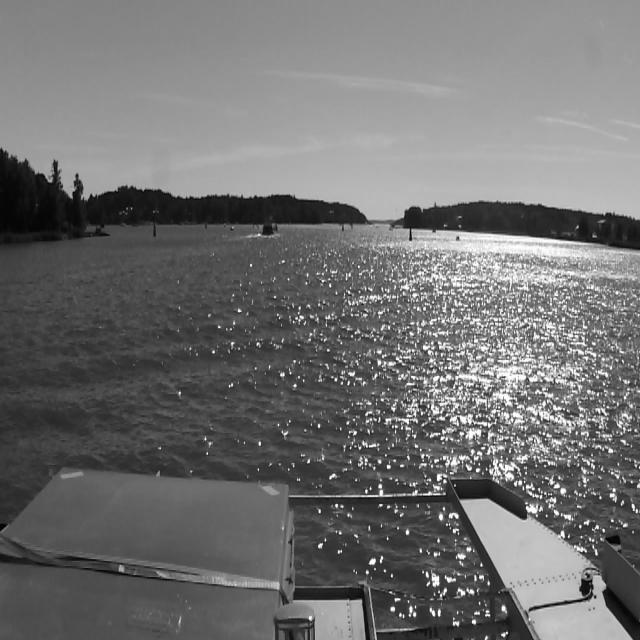buoy: (153, 223, 157, 237), (409, 227, 412, 241), (342, 222, 344, 231), (205, 222, 207, 228), (351, 222, 353, 228)
ship: (261, 220, 279, 238), (456, 235, 460, 241), (230, 226, 234, 231)
